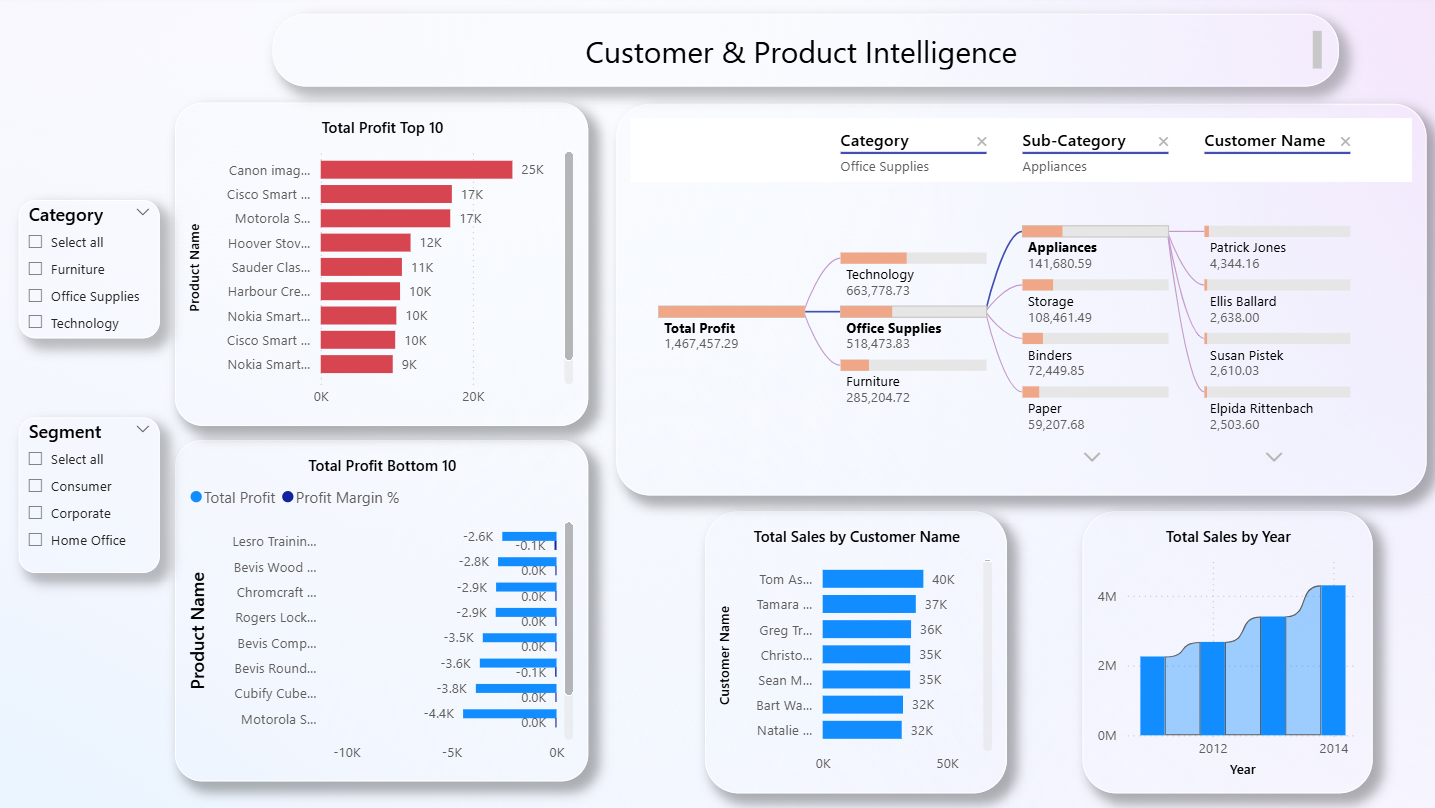

The dashboard page shown, as its layout file describes it:
{"tool":"powerbi","page":{"name":"Page 3","canvas":[1280,720],"ordinal":2},"visuals":[{"type":"barChart","fields":{"Category":["Global_Superstore2.Customer Name"],"Y":["Global_Superstore2.Total Sales"]},"box":[627.3,454.8,269,250.9],"z":0},{"type":"clusteredBarChart","title":"Total Profit Bottom 10","fields":{"Category":["Global_Superstore2.Product Name"],"Y":["Global_Superstore2.Total Profit","Global_Superstore2.Profit Margin %"]},"box":[155.6,392.1,368,304],"z":1000},{"type":"barChart","title":"Total Profit Top 10","fields":{"Category":["Global_Superstore2.Product Name"],"Y":["Global_Superstore2.Total Profit"]},"box":[155.6,91.7,368,288.3],"z":2000},{"type":"ribbonChart","fields":{"Category":["Global_Superstore2.Order Date.Variation.Date Hierarchy.Year"],"Y":["Global_Superstore2.Total Sales"]},"box":[963.9,454.8,258.2,250.9],"z":3000},{"type":"decompositionTreeVisual","fields":{"Analyze":["Global_Superstore2.Total Profit"],"ExplainBy":["Global_Superstore2.Category","Global_Superstore2.Sub-Category","Global_Superstore2.Customer Name"]},"box":[548.9,91.9,721.8,348.5],"z":4000},{"type":"slicer","fields":{"Values":["Global_Superstore2.Category"]},"box":[16.9,178.6,125.5,123.1],"z":5000},{"type":"slicer","fields":{"Values":["Global_Superstore2.Segment"]},"box":[16.9,371.6,125.5,138.7],"z":6000},{"type":"textbox","box":[242.9,12.3,949.6,64.5],"z":7000}]}

Visuals, with their boxes in screenshot pixels (x1, y1, x2, y2), scaled from the page's 1280x720 canvas onto the 1435x808 screenshot:
barChart - Global_Superstore2.Customer Name x Global_Superstore2.Total Sales: [left=703, top=510, right=1005, bottom=792]
"Total Profit Bottom 10" clusteredBarChart: [left=174, top=440, right=587, bottom=781]
"Total Profit Top 10" barChart: [left=174, top=103, right=587, bottom=426]
ribbonChart - Global_Superstore2.Order Date.Variation.Date Hierarchy.Year x Global_Superstore2.Total Sales: [left=1081, top=510, right=1370, bottom=792]
decompositionTreeVisual - Global_Superstore2.Total Profit x Global_Superstore2.Category: [left=615, top=103, right=1425, bottom=494]
slicer - Global_Superstore2.Category: [left=19, top=200, right=160, bottom=339]
slicer - Global_Superstore2.Segment: [left=19, top=417, right=160, bottom=573]
textbox: [left=272, top=14, right=1337, bottom=86]
